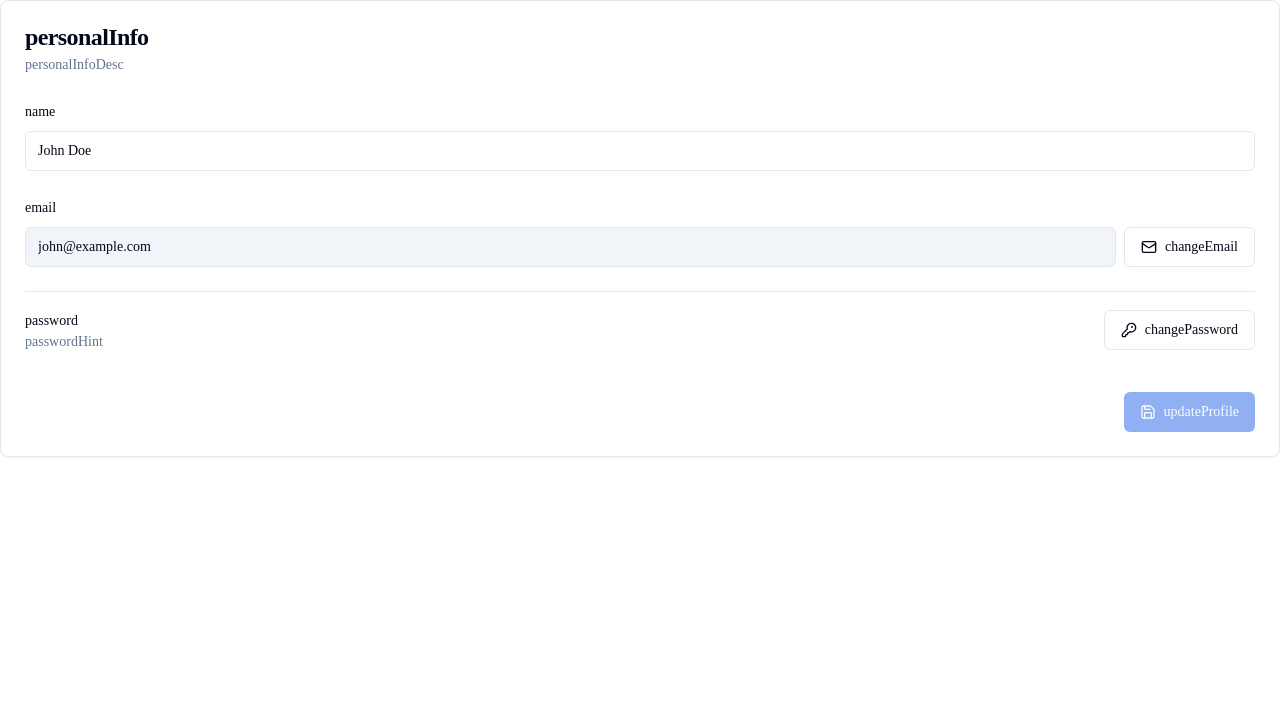
it: ProfileForm › Email Change Dialog › should open email change dialog when change email button is clicked
Step 1. Click the button "changeEmail" → (1189,247), box [1124,227,1255,267]
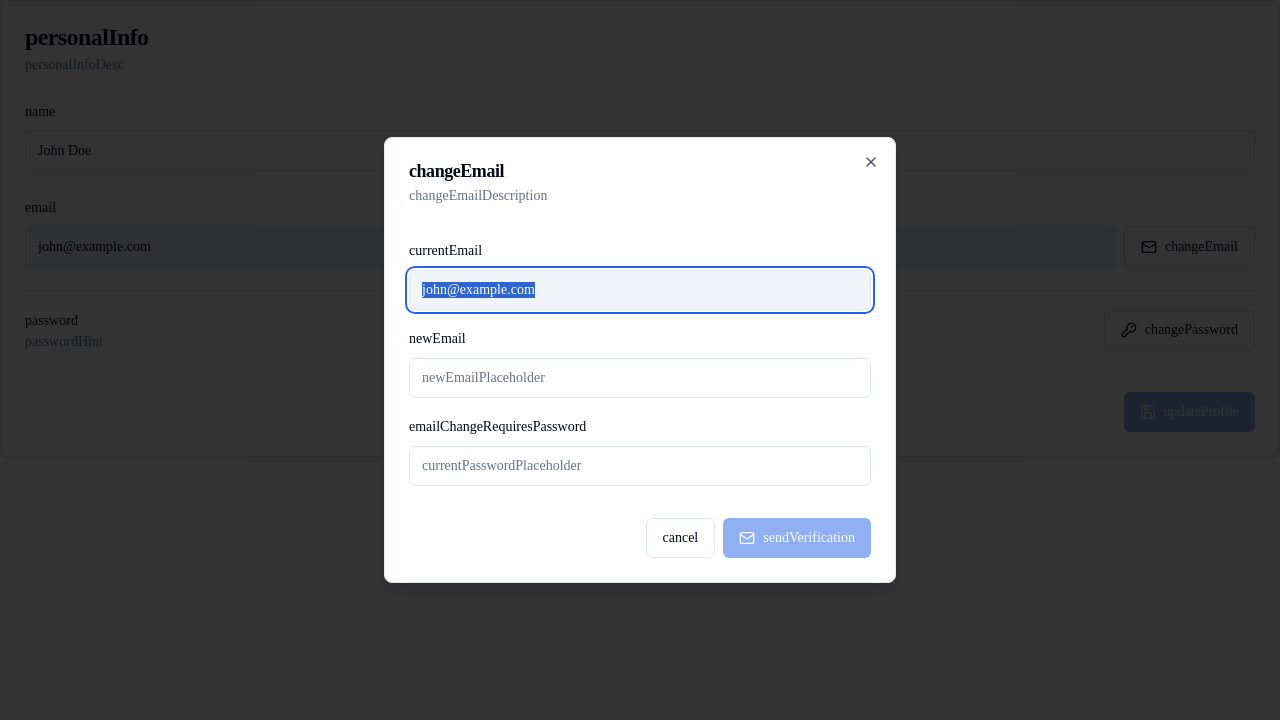
expect the text "changeEmailDescription" is shown: met, box [409,188,547,203]
expect the field labelled "newEmail" is shown: met, box [409,358,871,398]
expect the password field labelled "emailChangeRequiresPassword" is shown: met, box [409,446,871,486]
